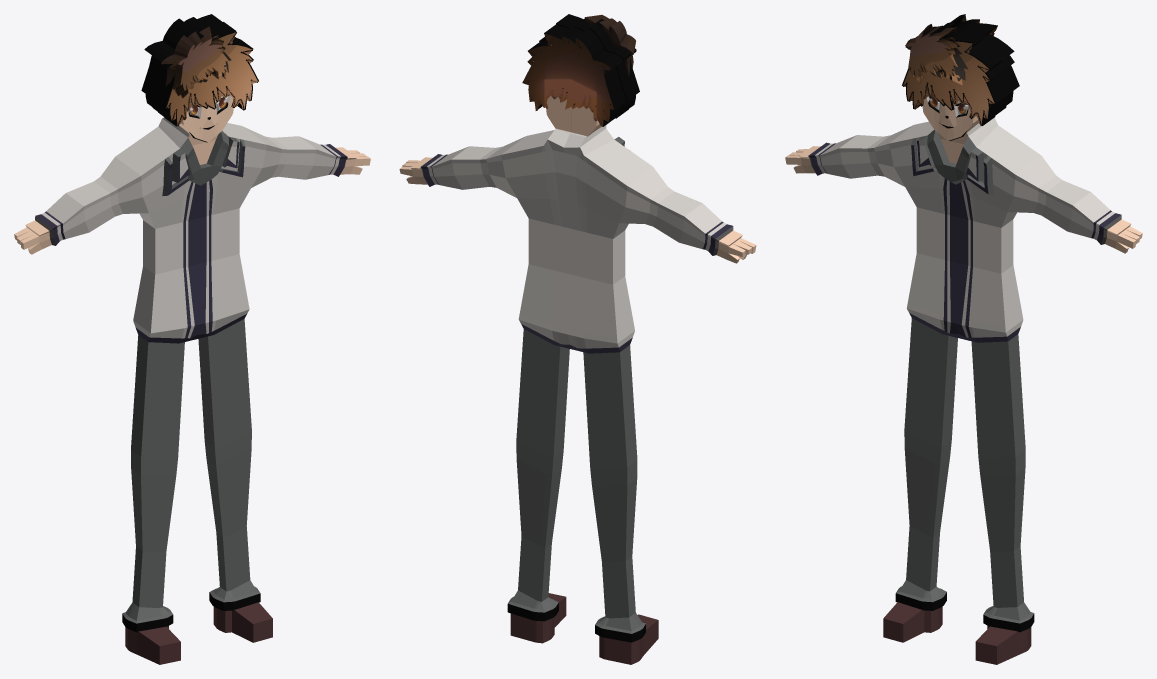
File: kotarou base_mesh.fbx
The picture shows the model from 3 angles, left to right: view 1: azimuth 30°, elevation 25°; view 2: azimuth 150°, elevation 25°; view 3: azimuth 330°, elevation 25°; orthographic projection.
Visible parts, largest first — view 1: Cube, Hair1, Hair1.001, Face; view 2: Cube, Hair1, Face, Hair1.001; view 3: Cube, Hair1, Hair1.001, Face.
Boxes of the visible parts, box(x1,y1,x2,y2) form: Cube: box(14, 118, 370, 664); Hair1: box(141, 14, 258, 126); Hair1.001: box(161, 26, 231, 97); Face: box(179, 94, 233, 142); Cube: box(399, 125, 756, 664); Hair1: box(522, 14, 639, 126); Face: box(546, 96, 606, 136); Hair1.001: box(584, 14, 635, 76); Cube: box(785, 117, 1142, 664); Hair1: box(902, 14, 1019, 125); Hair1.001: box(906, 24, 967, 85); Face: box(922, 96, 978, 140).
Size of the model in its own units: 289 by 491 by 55.76.
11 materials, 4 textured.
